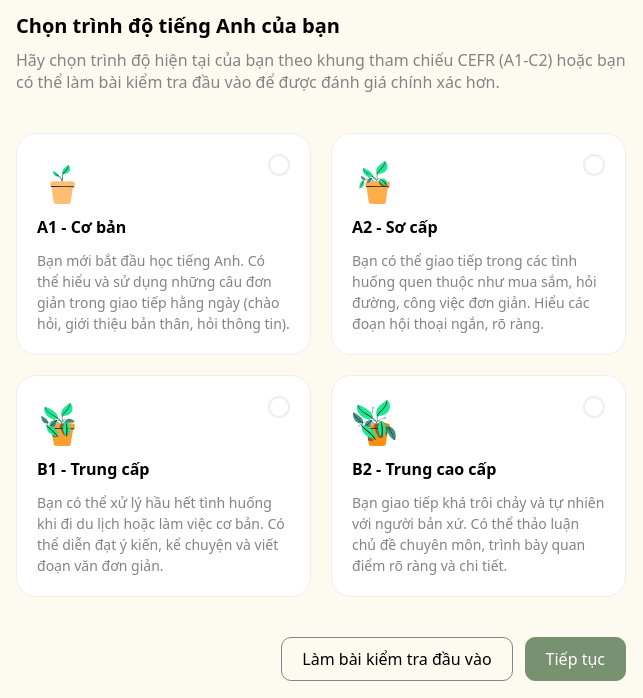
Test: LevelSelectionForm › disables continue button until a level is selected
Expected: the button "Tiếp tục" is disabled, left=525, top=637, right=626, bottom=681
Click the button with aria-label "Chọn trình độ A1 - Cơ bản": (62, 179) left=16, top=133, right=311, bottom=355
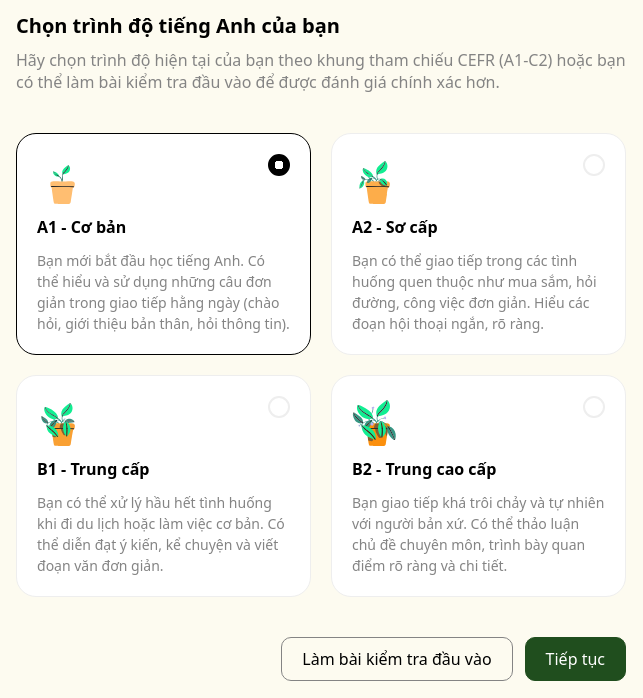
Expected: the button "Tiếp tục" is enabled, left=525, top=637, right=626, bottom=681
